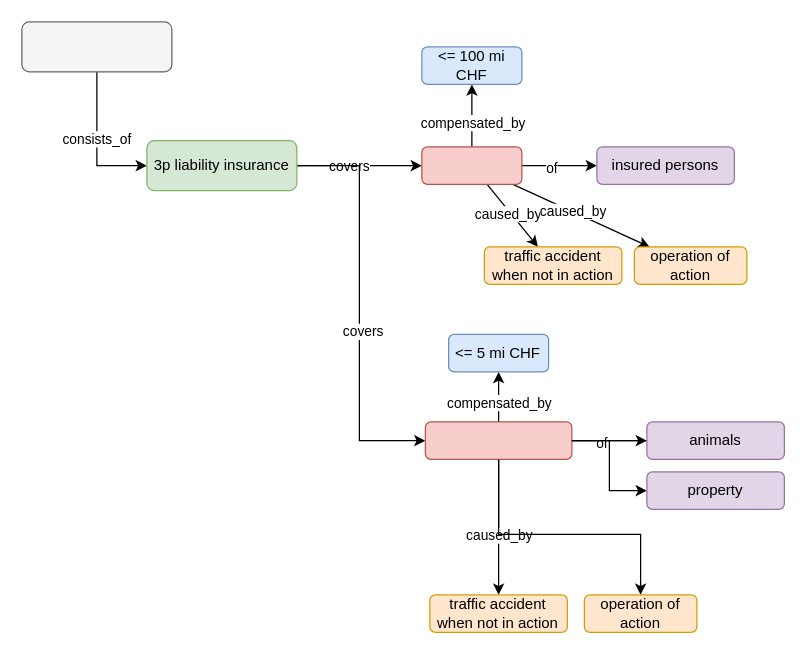
This 806x655 diagram has some shape labels left out. Here are the shapes that lost their labels. From the top down, the centre of each, then its label:
At point (96, 46): "Motor Vehicle GCI".
At point (471, 165): "death or bodily injury".
At point (498, 440): "death or injury".
